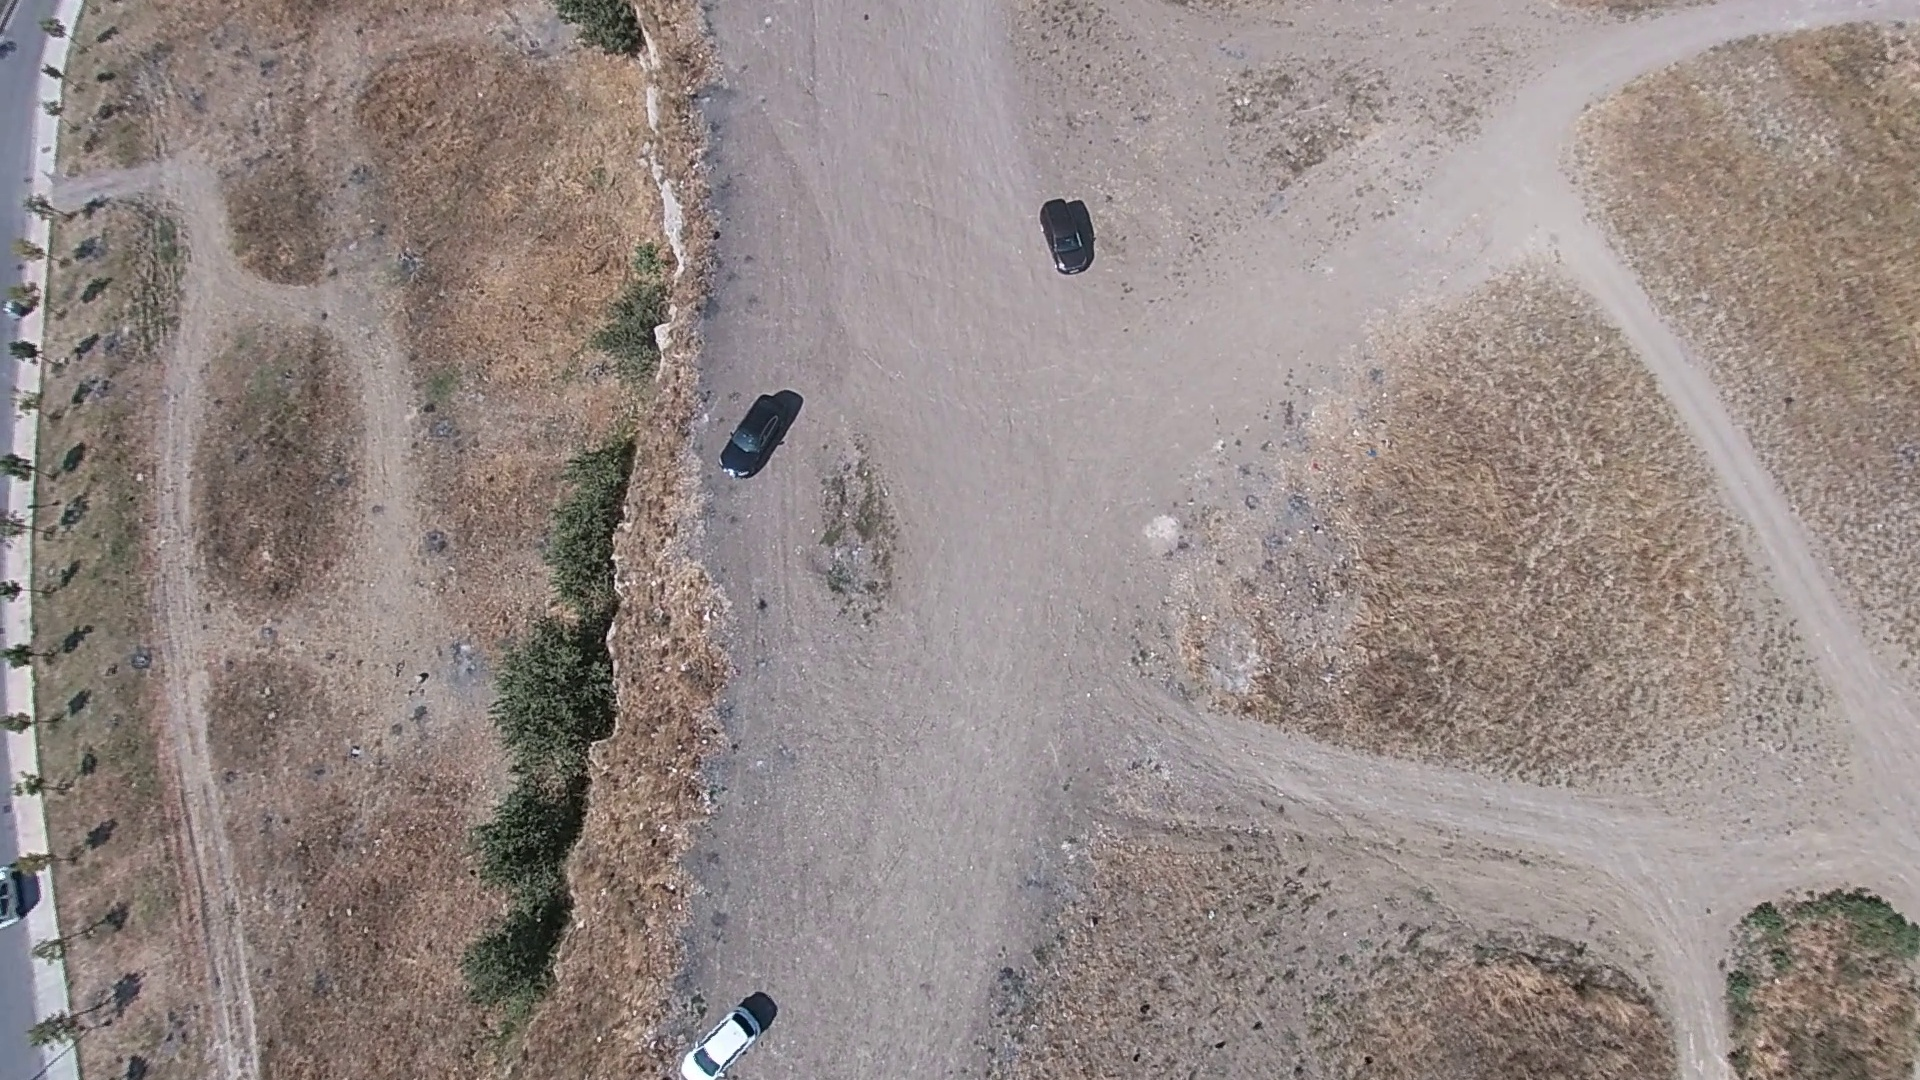arac: (676, 996, 771, 1080), (711, 385, 796, 473), (1036, 195, 1095, 272)
